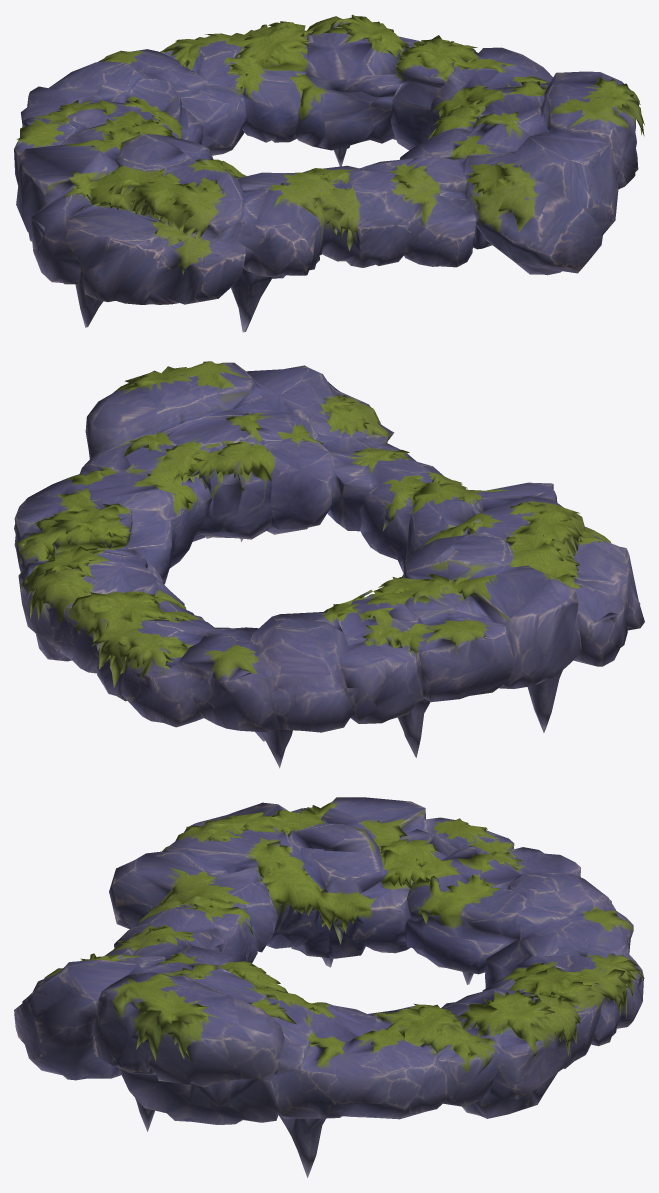
The model's file is crash-cavern-skylight.glb.
3 renders of one model, top to bottom at view 1: azimuth 30°, elevation 25°; view 2: azimuth 150°, elevation 25°; view 3: azimuth 270°, elevation 25°, orthographic. The views are drawn at different scales.
Visible parts, largest first — view 1: crash-cavern-skylight_LOD0; view 2: crash-cavern-skylight_LOD0; view 3: crash-cavern-skylight_LOD0.
Boxes of the visible parts, <box> form: crash-cavern-skylight_LOD0: <box>14,14,644,332</box>; crash-cavern-skylight_LOD0: <box>14,361,644,768</box>; crash-cavern-skylight_LOD0: <box>14,797,644,1177</box>.
Size of what is drawn, in the model's own units: 1.9 by 0.6231 by 1.86.
Materials: 1 (1 with a texture image).
